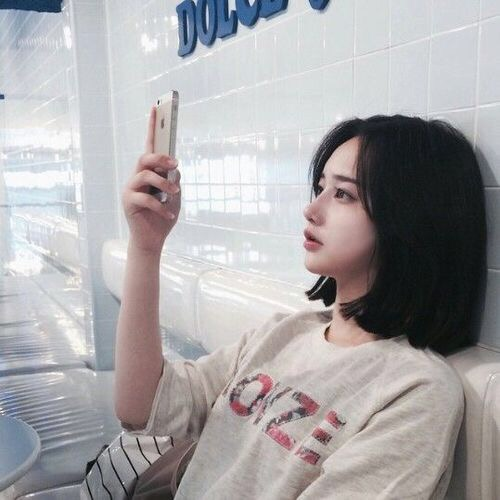face: (303, 132, 380, 275)
hand: (121, 104, 184, 248)
